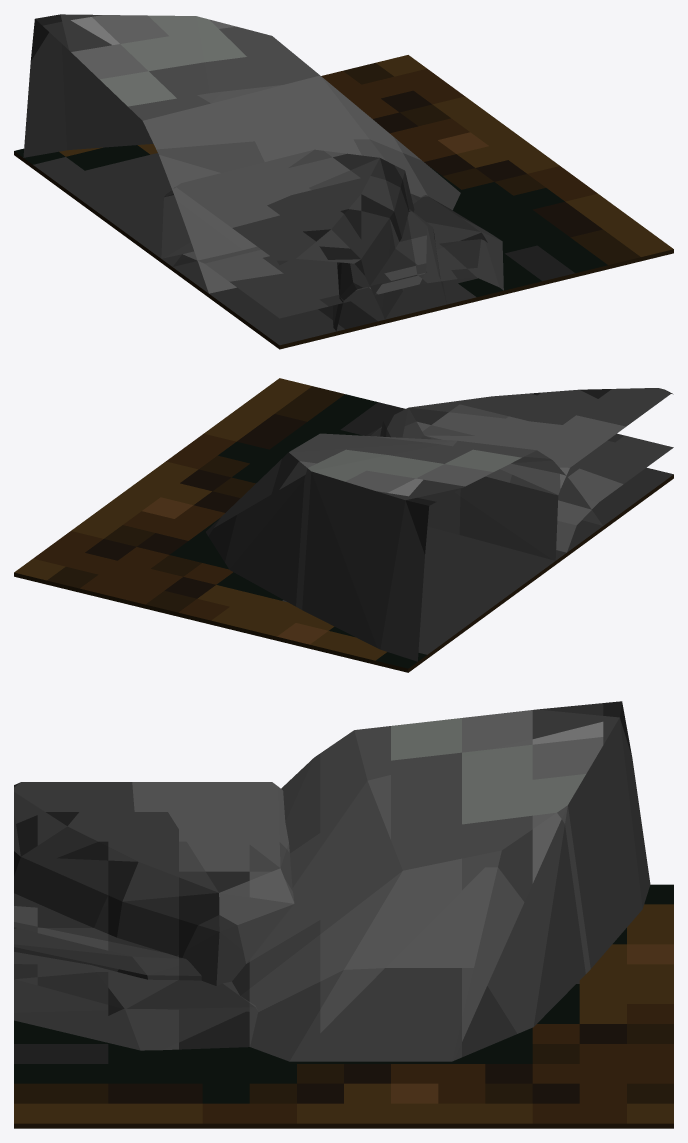
Rendered from newshe-5.glb.
The picture shows the model from 3 angles, top to bottom: view 1: azimuth 30°, elevation 25°; view 2: azimuth 150°, elevation 25°; view 3: azimuth 270°, elevation 25°; orthographic projection. The views are drawn at different scales.
Parts seen in each view (by area): view 1: newshe-5; view 2: newshe-5; view 3: newshe-5.
Boxes of the visible parts, bbox=[...] form: newshe-5: bbox=[14, 14, 673, 349]; newshe-5: bbox=[14, 378, 673, 672]; newshe-5: bbox=[14, 701, 673, 1128].
Bounding box in the file's own units: 2 × 0.735 × 2.33.
